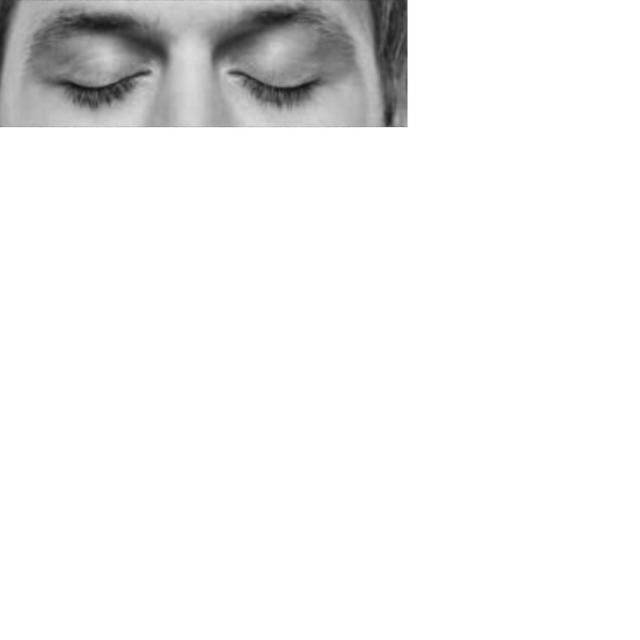real: (18, 24, 344, 112)
